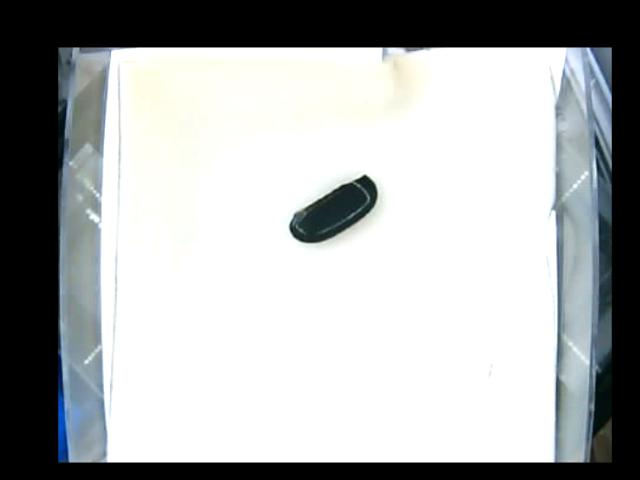Pebble: (290, 173, 377, 243)
